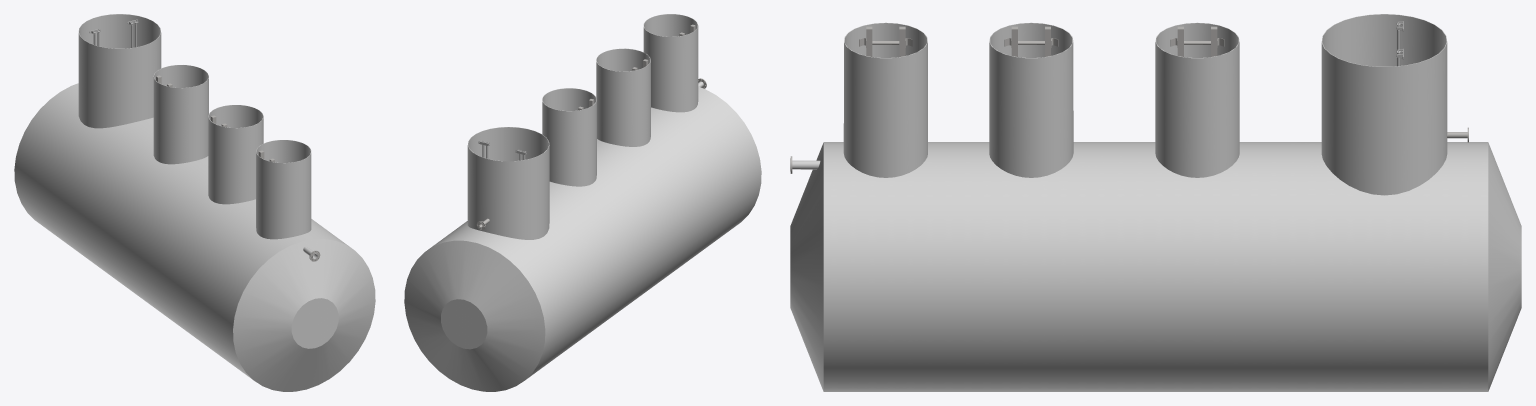
File: LOS_steel.glb
3 views of the same model, side by side, from view 1: azimuth 30°, elevation 25°; view 2: azimuth 150°, elevation 25°; view 3: azimuth 270°, elevation 25° (orthographic). The views are drawn at different scales.
Parts seen in each view (by area): view 1: Твердое тело1; view 2: Твердое тело1; view 3: Твердое тело1 (×4).
Boxes of the visible parts, x1=… form: Твердое тело1: x1=14, y1=14, x2=375, y2=391; Твердое тело1: x1=404, y1=14, x2=761, y2=391; Твердое тело1 (×4): x1=790, y1=14, x2=1521, y2=391.
Size of the model in its own units: 3.01 by 4.55 by 8.8.
7 materials, 1 textured.
